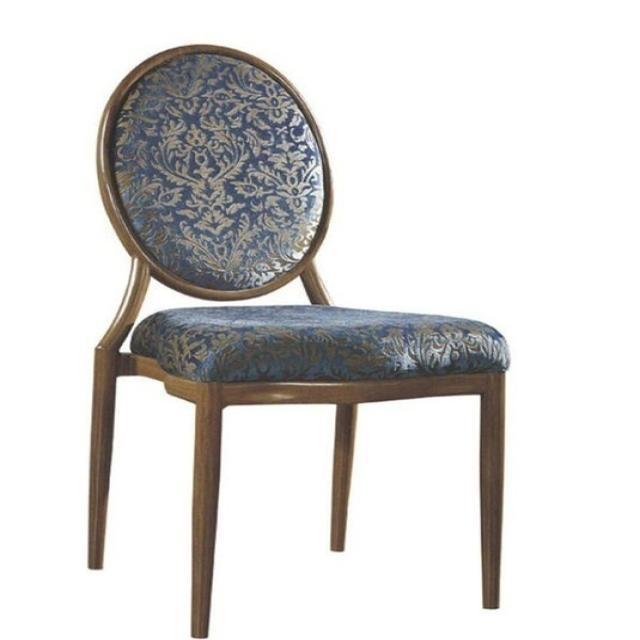chair: (85, 41, 511, 640)
